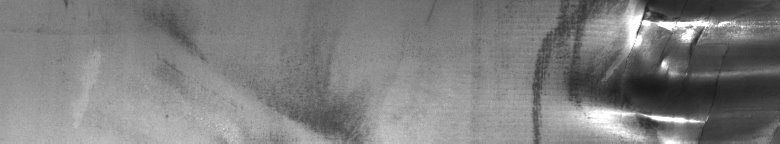ke: (525, 4, 776, 136)
